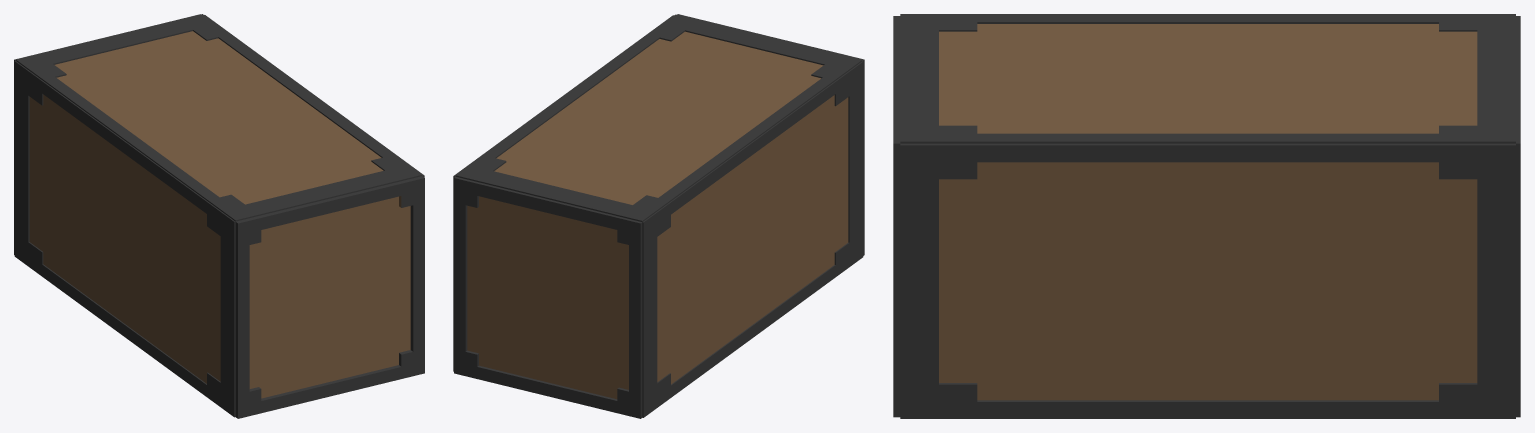
File: Crate 2.fbx
3 views of the same model, side by side, from view 1: azimuth 30°, elevation 25°; view 2: azimuth 150°, elevation 25°; view 3: azimuth 270°, elevation 25° (orthographic). The views are drawn at different scales.
Visible parts, largest first — view 1: Box 2; view 2: Box 2; view 3: Box 2.
Part boxes in pixels (<box>): Box 2: <box>14,14,424,418</box>; Box 2: <box>453,14,864,418</box>; Box 2: <box>893,14,1520,418</box>.
Bounding box in the file's own units: 469 × 464 × 957.
